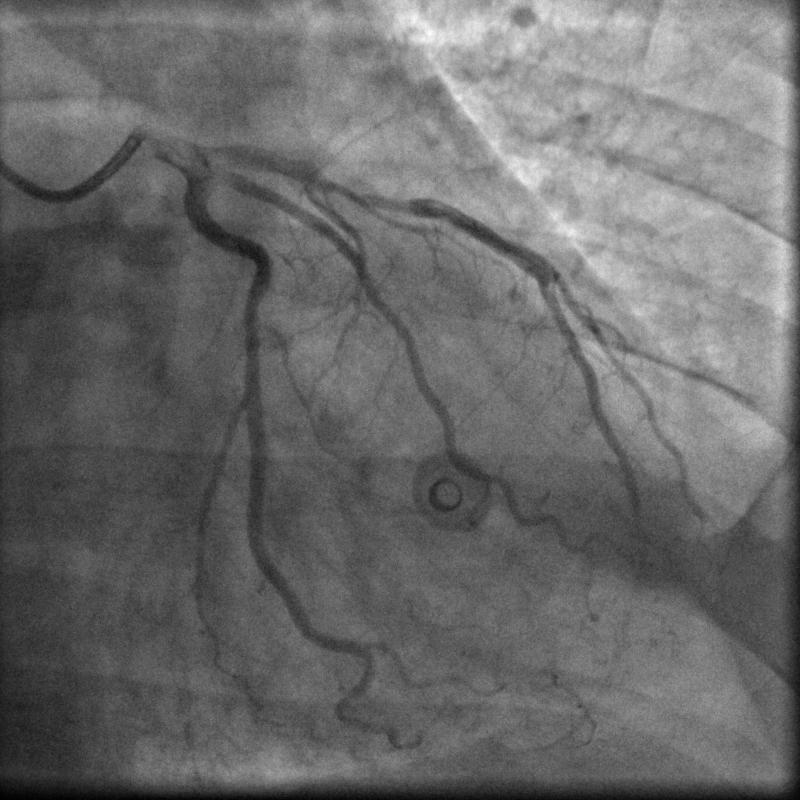Stenosis: (325, 176, 406, 216)
